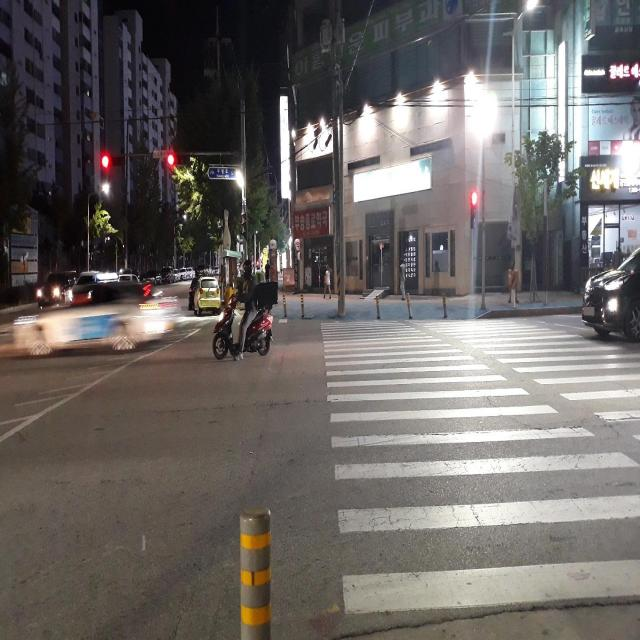빨간불: (469, 193, 478, 229)
횡단보도: (318, 314, 640, 620)
